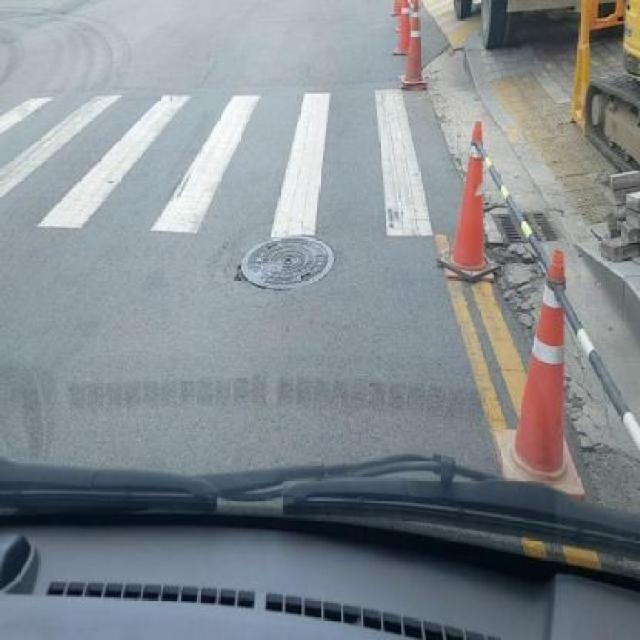Manhole: (232, 234, 336, 292)
